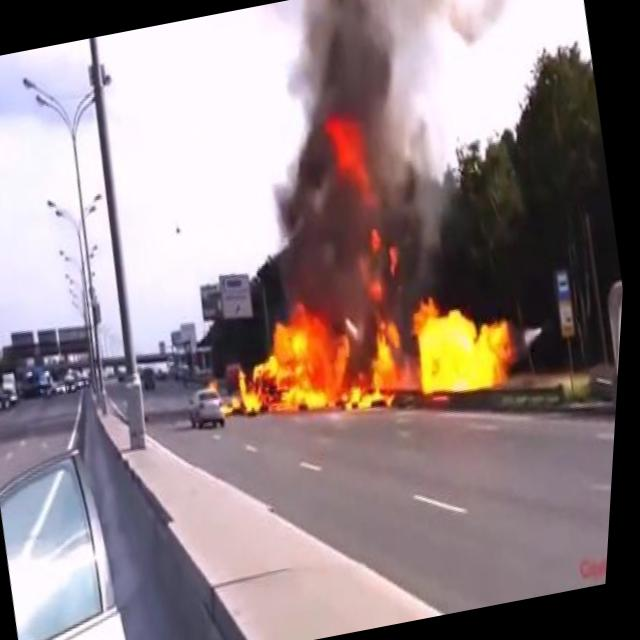fire: (220, 266, 544, 450), (316, 103, 396, 224), (385, 239, 411, 280), (369, 224, 391, 258), (210, 373, 225, 392)
